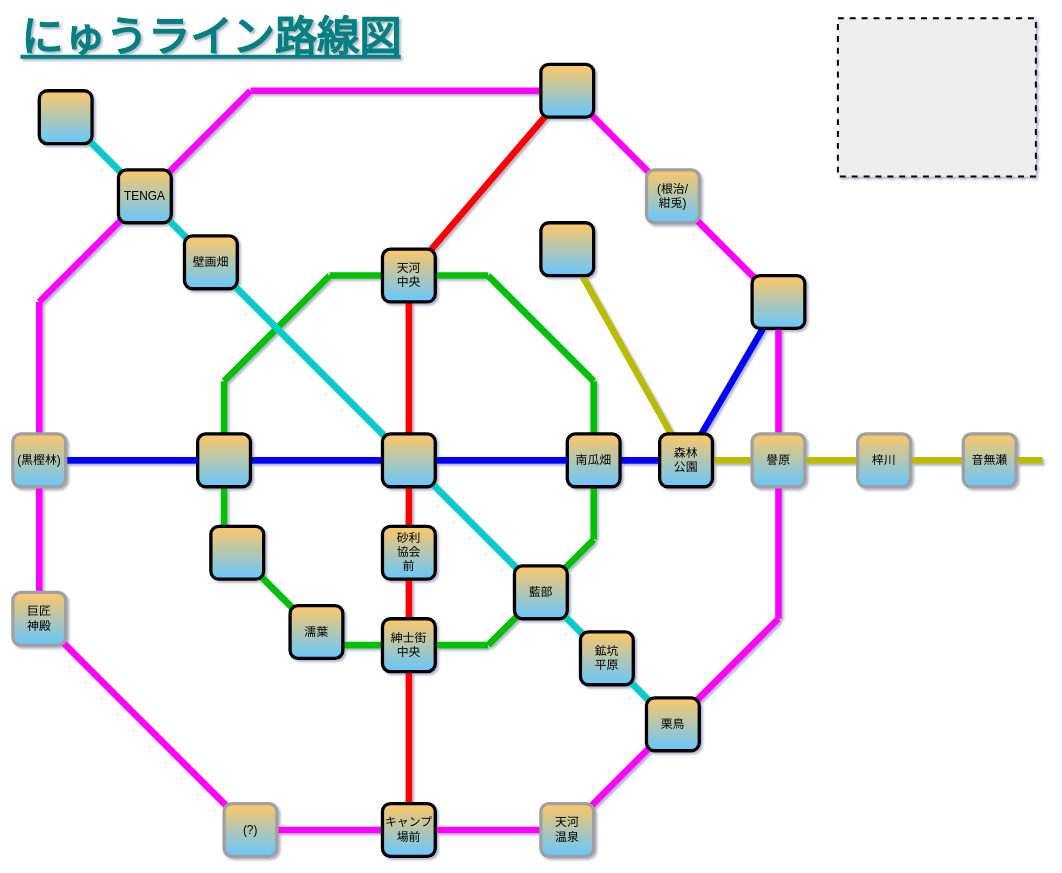
The diagram is 1062 pixels wide and 873 high, and some of its shapes have lost their labels. The centre of each missing label's shape, as x and y in pixels:
●天河環状線 ●中央環状線 ●海砂森雪線 ●東西線 ●南北線 ●魂真線・最果線: [937,97]
スナ サンド 島: [65,117]
共有 倉庫: [408,460]
新 魂真村: [567,90]
桃尻: [224,460]
空肥 前花: [778,302]
紳士街: [237,552]
魂真: [567,249]
